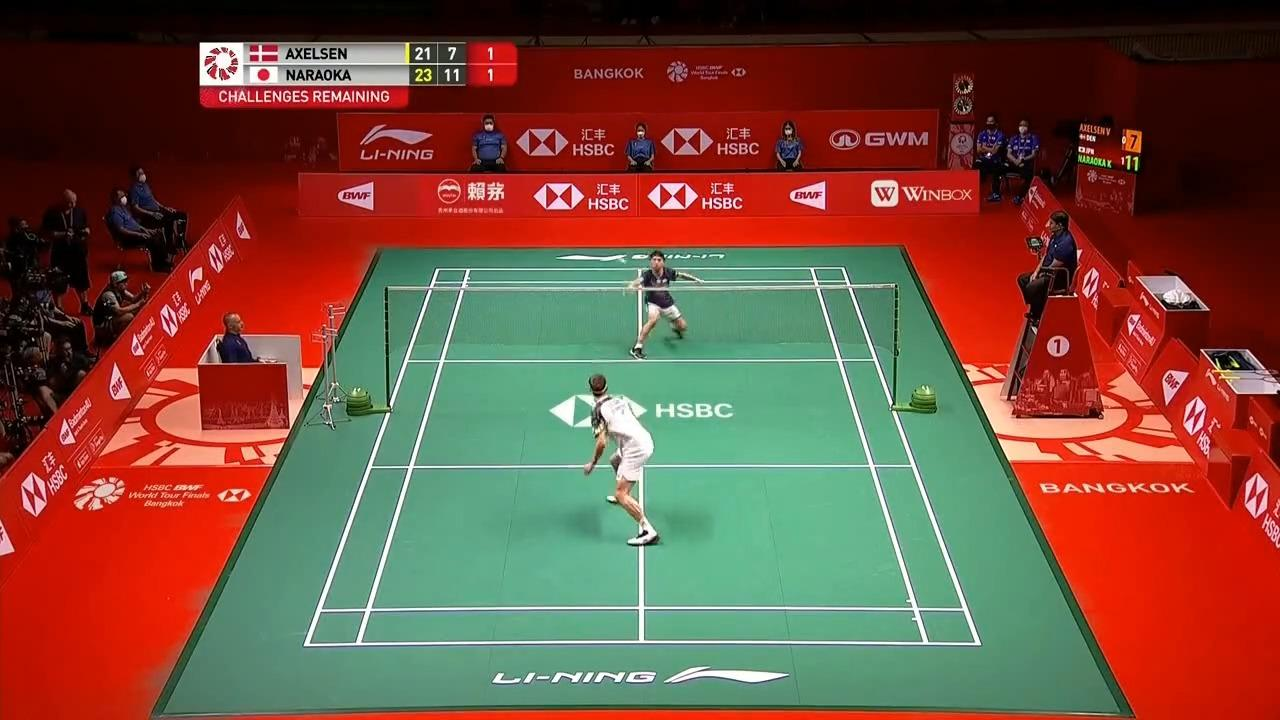shuttle: (619, 255, 630, 268)
